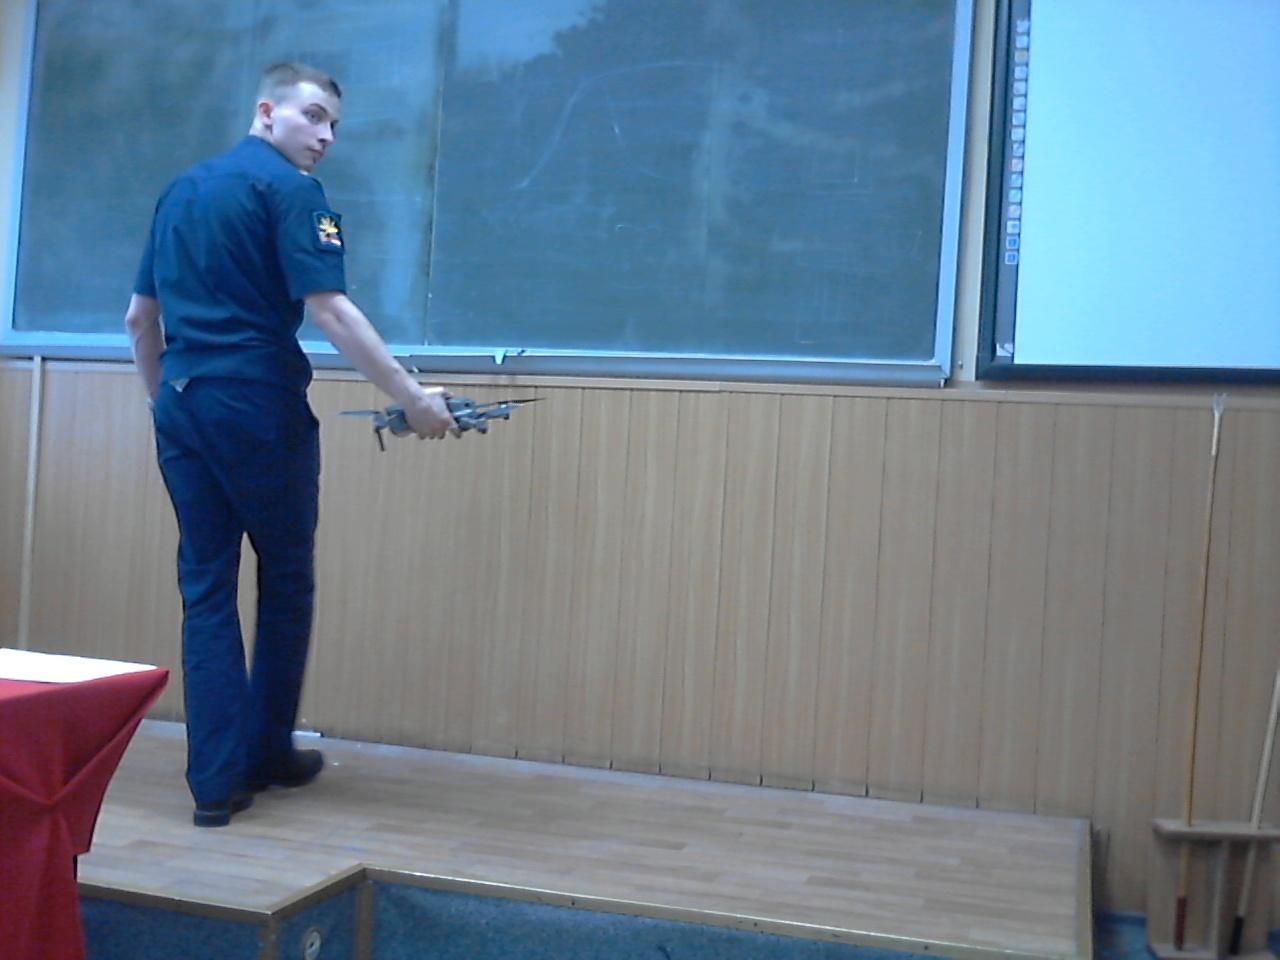drone: (336, 364, 559, 452)
